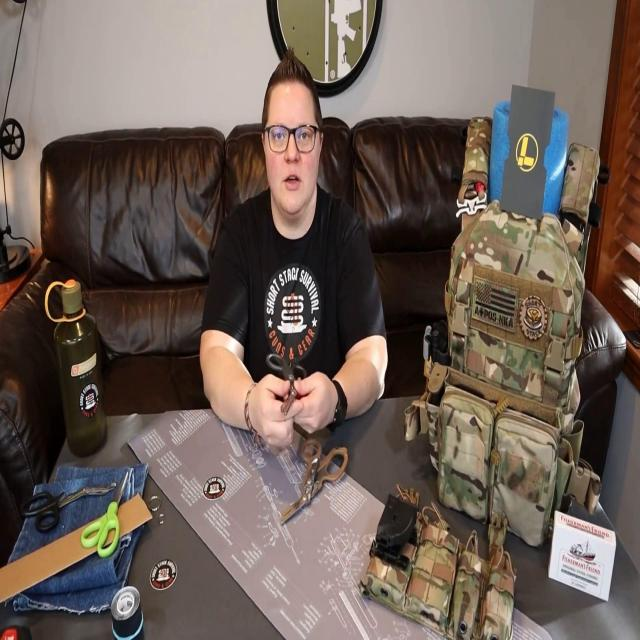scissor: (279, 436, 348, 526), (19, 479, 117, 533), (81, 472, 129, 559), (266, 352, 308, 417)
